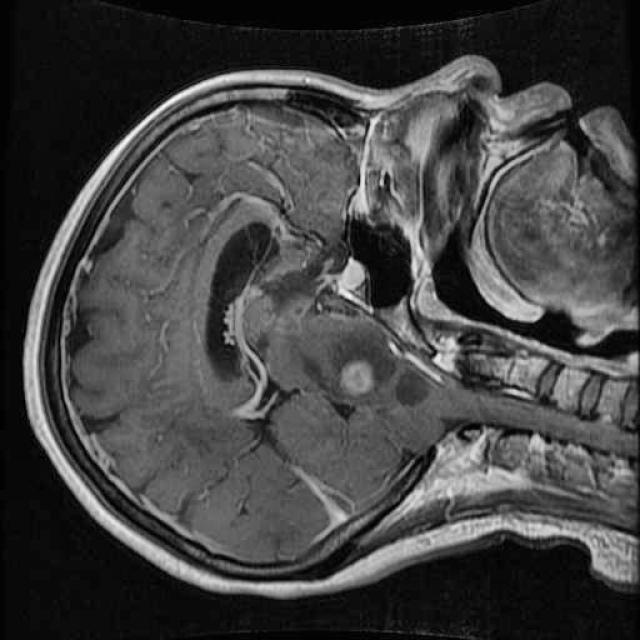Non-Tumor: (329, 342, 392, 412)
